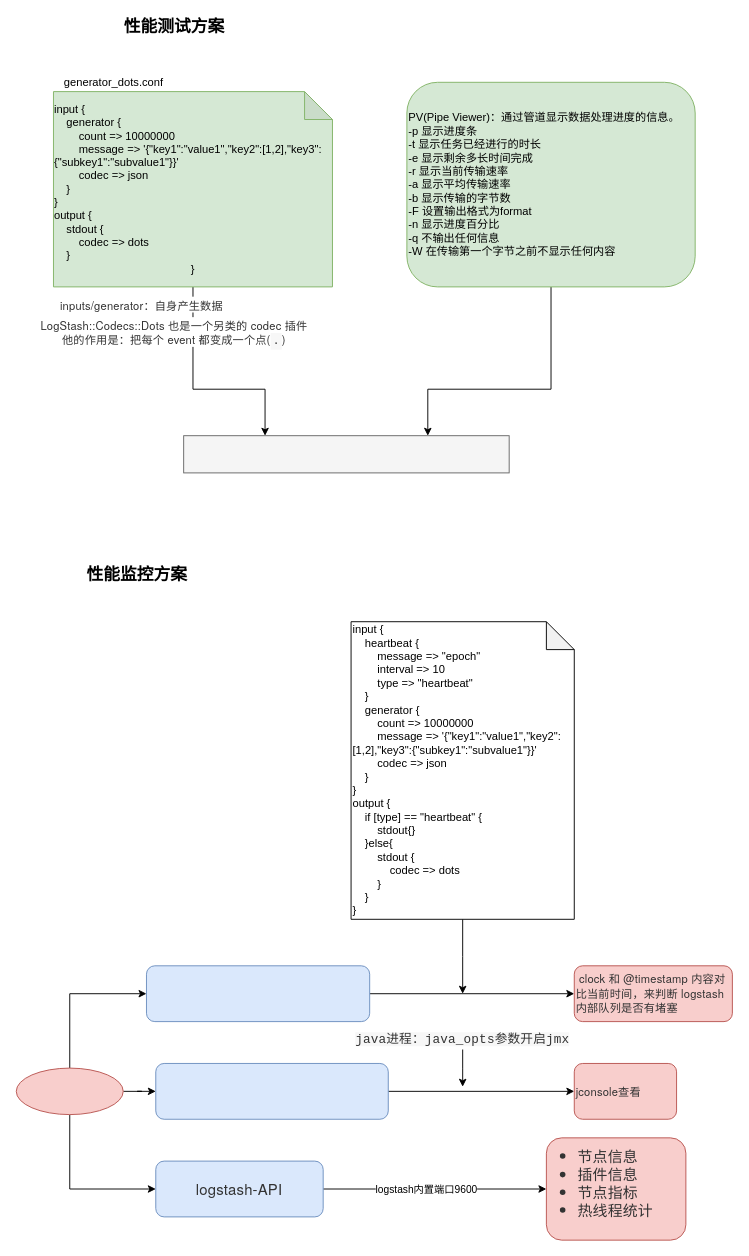
This 749x1256 diagram has some shape labels left out. Each missing label, with the centre of its shape:
"./bin/logstash -f generator_dots.conf | pv -abt > /dev/null" goes at (x=346, y=454).
"JMX（ Java Management Extension ）" goes at (x=271, y=1091).
"logstash" goes at (x=69, y=1091).
"logstash-input-heartbeat" goes at (x=258, y=993).
